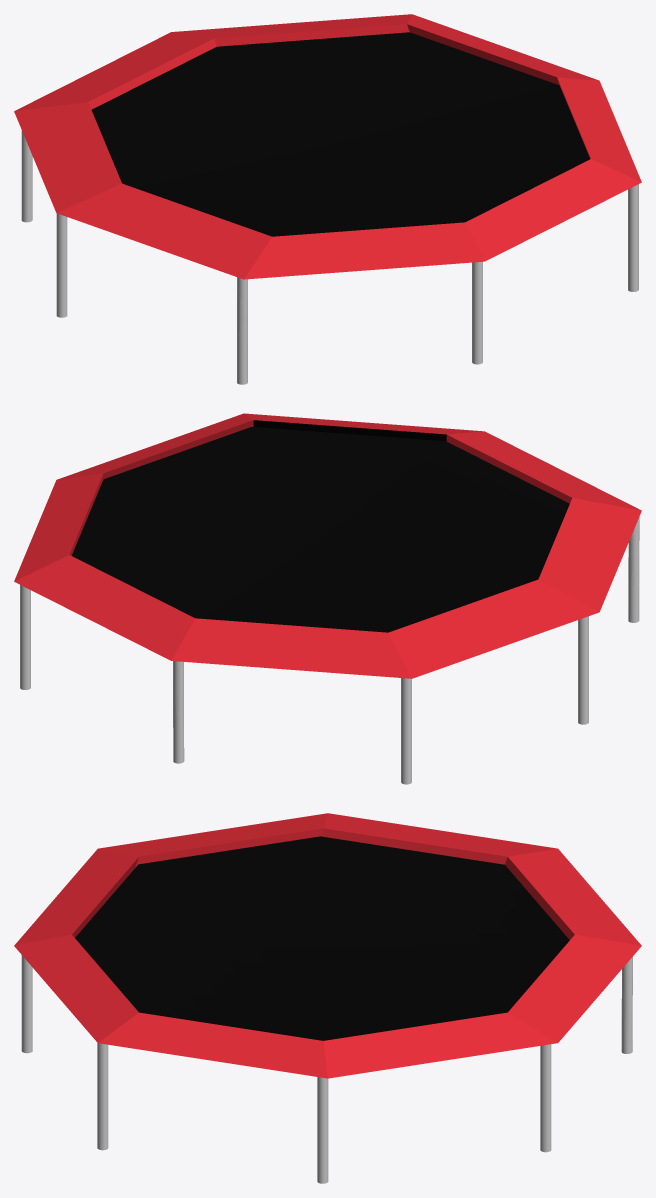
Rendered from trambolin.fbx.
The picture shows the model from 3 angles, top to bottom: view 1: azimuth 30°, elevation 25°; view 2: azimuth 150°, elevation 25°; view 3: azimuth 270°, elevation 25°; orthographic projection.
Parts seen in each view (by area): view 1: tranbolin; view 2: tranbolin; view 3: tranbolin.
Boxes of the visible parts, <box> form: tranbolin: <box>14,14,641,384</box>; tranbolin: <box>14,413,641,784</box>; tranbolin: <box>14,813,641,1183</box>.
Size of the model in its own units: 572 by 126 by 572.
